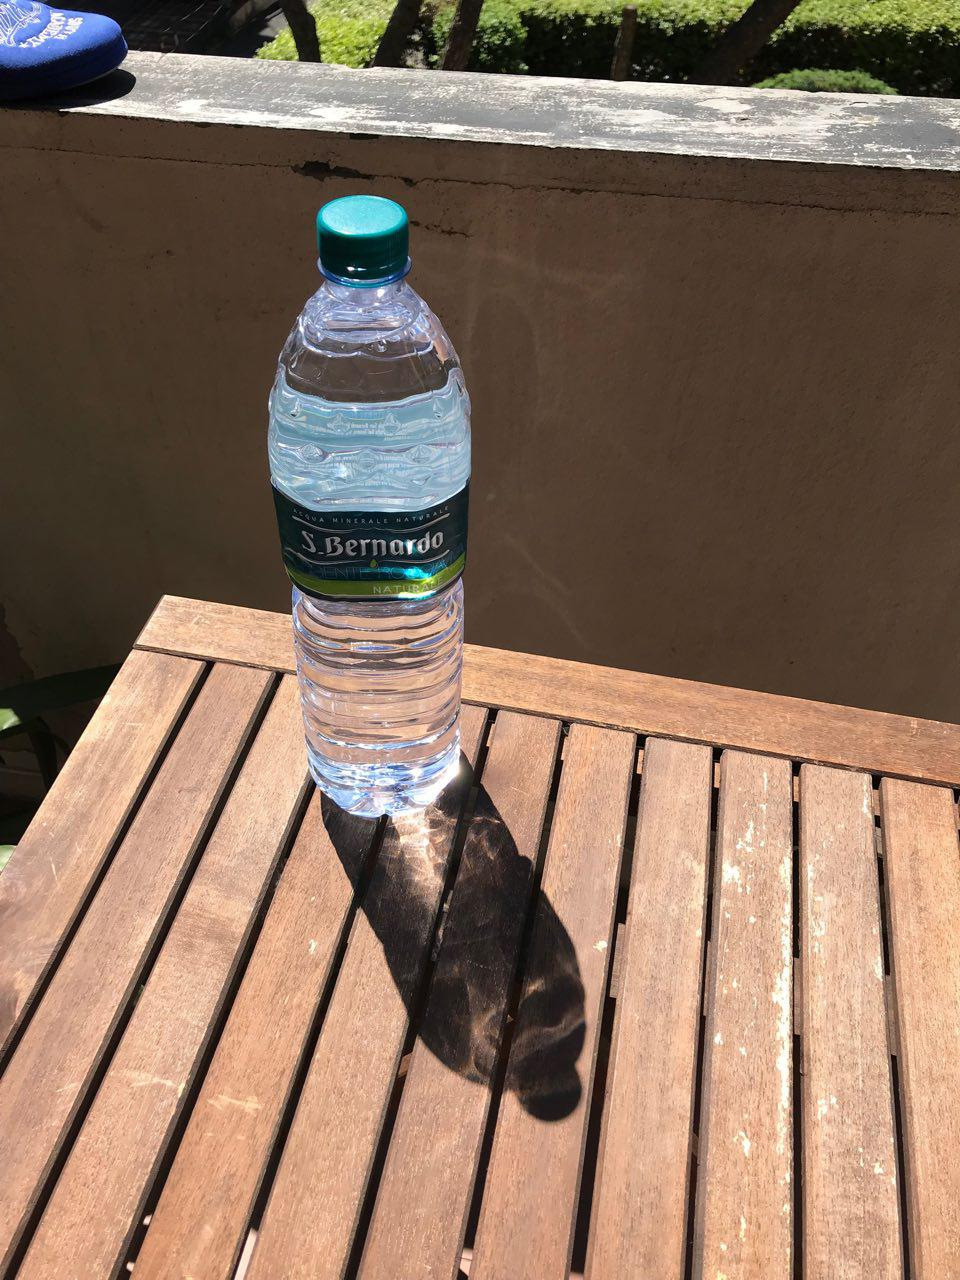san_bernardo: (265, 191, 474, 819)
